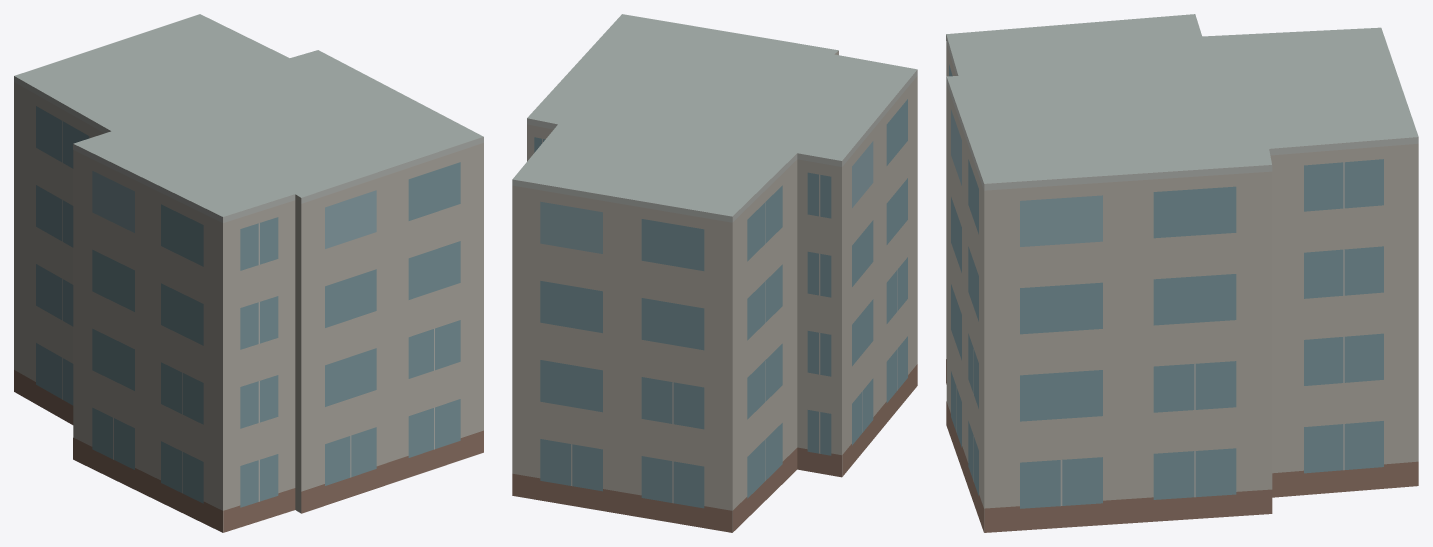
File: survey-upis-32618601.glb
3 renders of one model, left to right at view 1: azimuth 30°, elevation 25°; view 2: azimuth 150°, elevation 25°; view 3: azimuth 270°, elevation 25°, orthographic. The views are drawn at different scales.
Parts seen in each view (by area): view 1: survey-upis-32618601.tmp; view 2: survey-upis-32618601.tmp; view 3: survey-upis-32618601.tmp.
Part boxes in pixels (<box>): survey-upis-32618601.tmp: <box>14,14,483,532</box>; survey-upis-32618601.tmp: <box>512,14,917,532</box>; survey-upis-32618601.tmp: <box>946,14,1418,532</box>.
Size of the model in its own units: 13.27 by 12.7 by 15.6.
